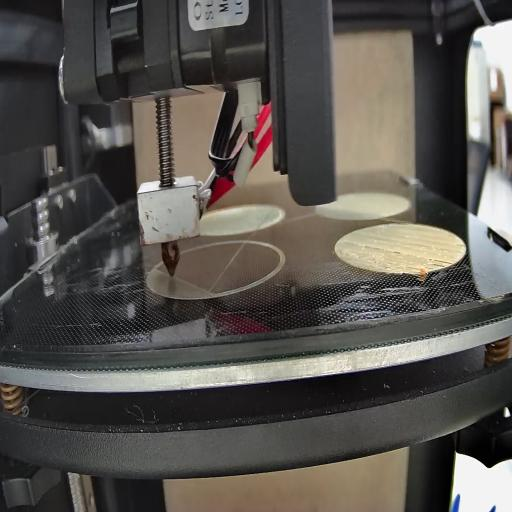under_extrusion: (354, 243, 402, 258), (423, 256, 453, 275), (452, 237, 468, 249)
